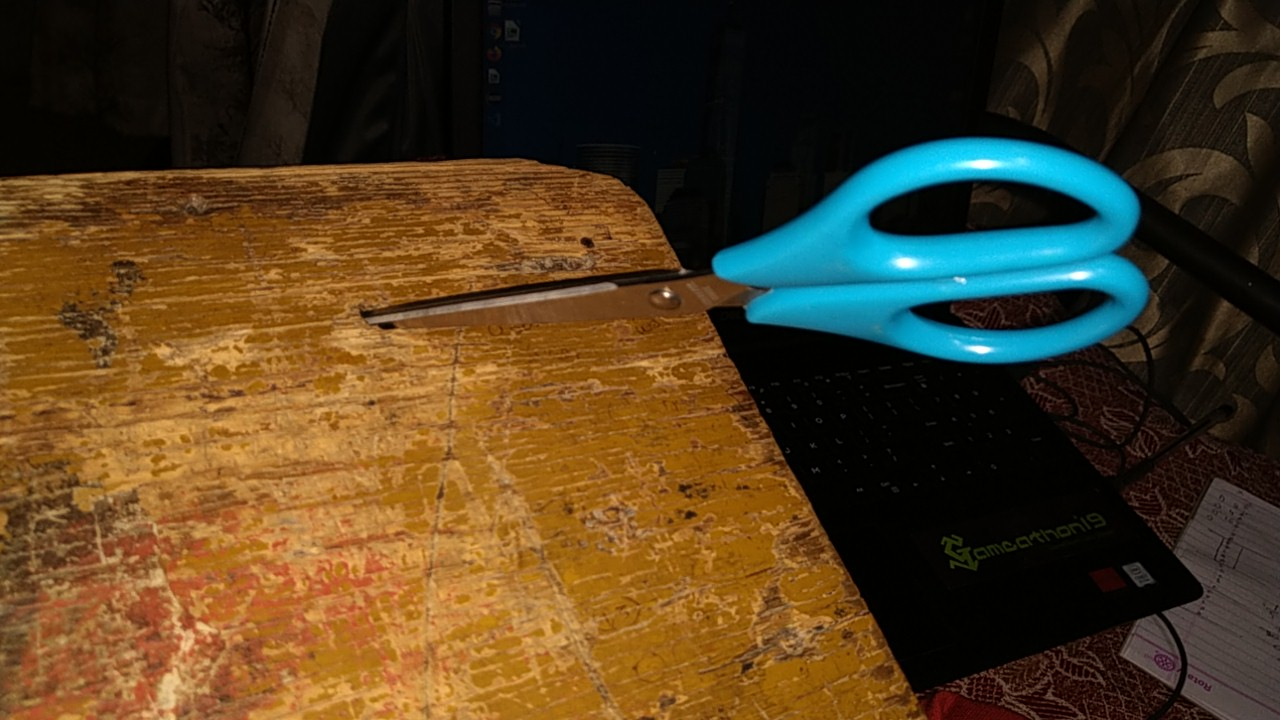scissor: (346, 122, 1160, 388)
